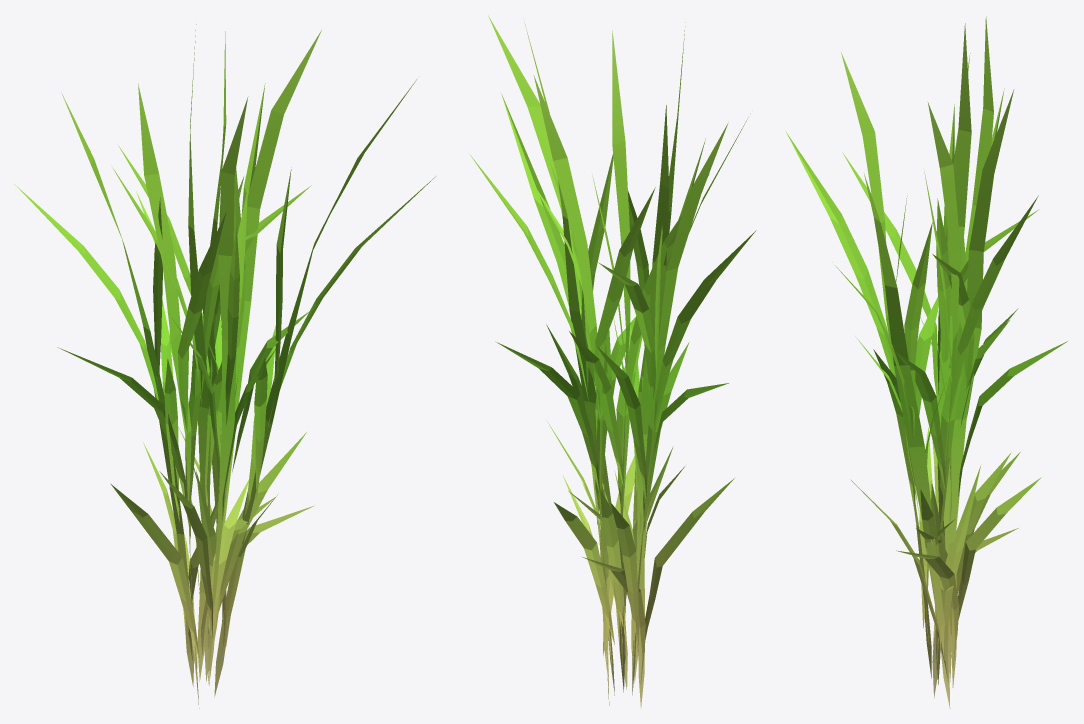
File: Rice6_LOD.fbx
3 views of the same model, side by side, from view 1: azimuth 30°, elevation 25°; view 2: azimuth 150°, elevation 25°; view 3: azimuth 270°, elevation 25° (orthographic).
Parts seen in each view (by area): view 1: Rice6_LOD0; view 2: Rice6_LOD0; view 3: Rice6_LOD0.
Boxes of the visible parts, <box> form: Rice6_LOD0: <box>14,24,435,708</box>; Rice6_LOD0: <box>470,15,756,708</box>; Rice6_LOD0: <box>786,16,1067,709</box>.
Size of what is drawn, in the model's own units: 243 by 467 by 176.
1 material, 1 textured.
